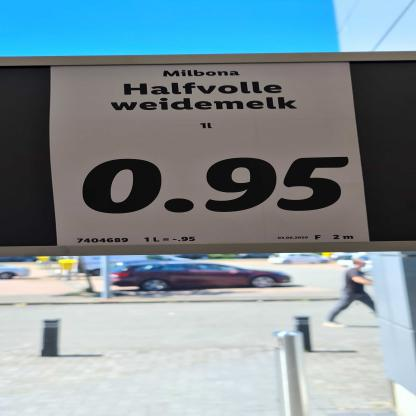prtg: (51, 63, 372, 247)
